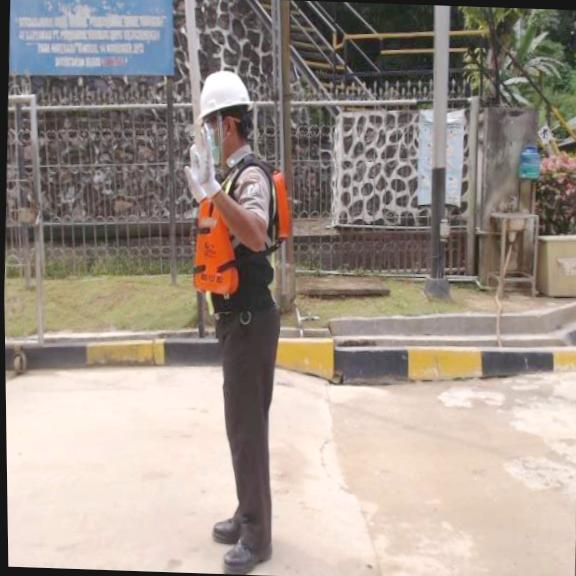safety_vest: (187, 165, 296, 295)
